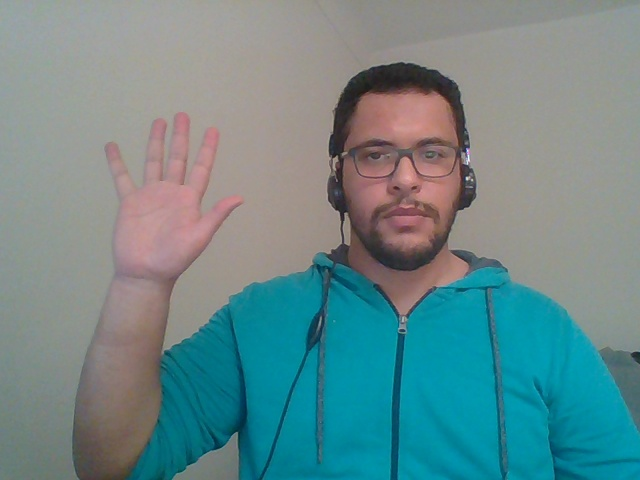hello: (83, 82, 262, 337)
